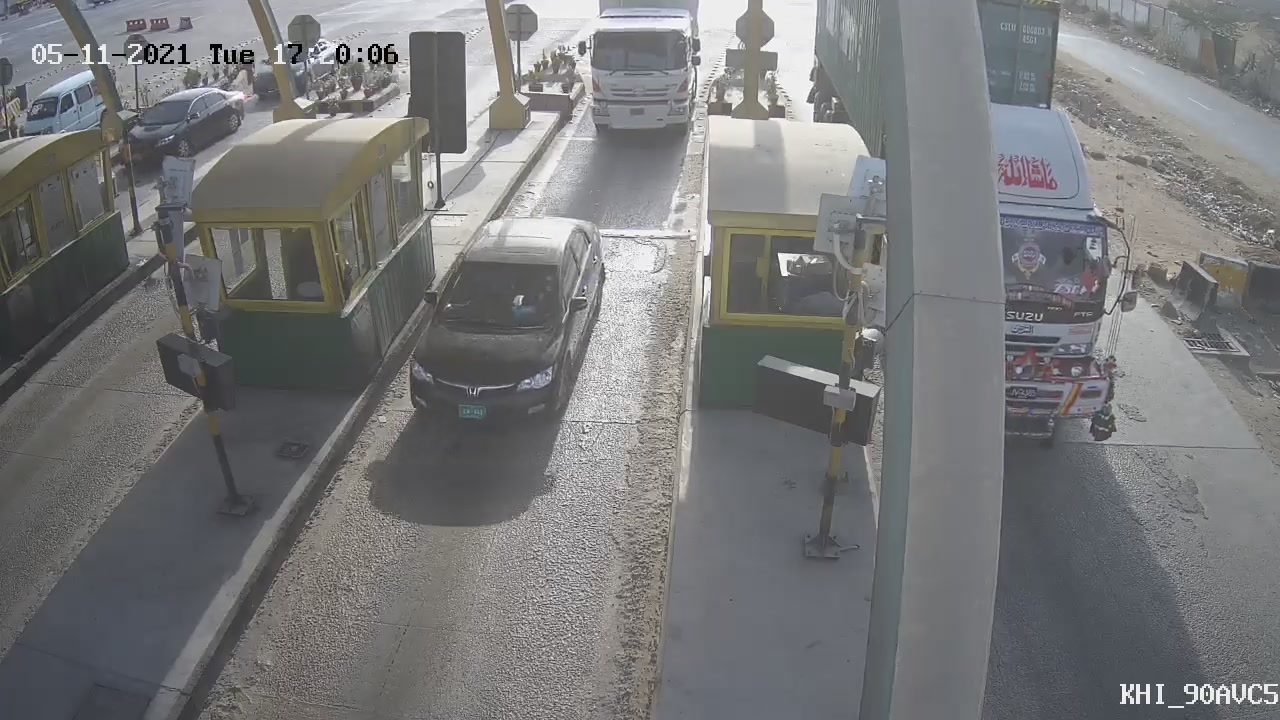F1: (381, 190, 631, 460)
